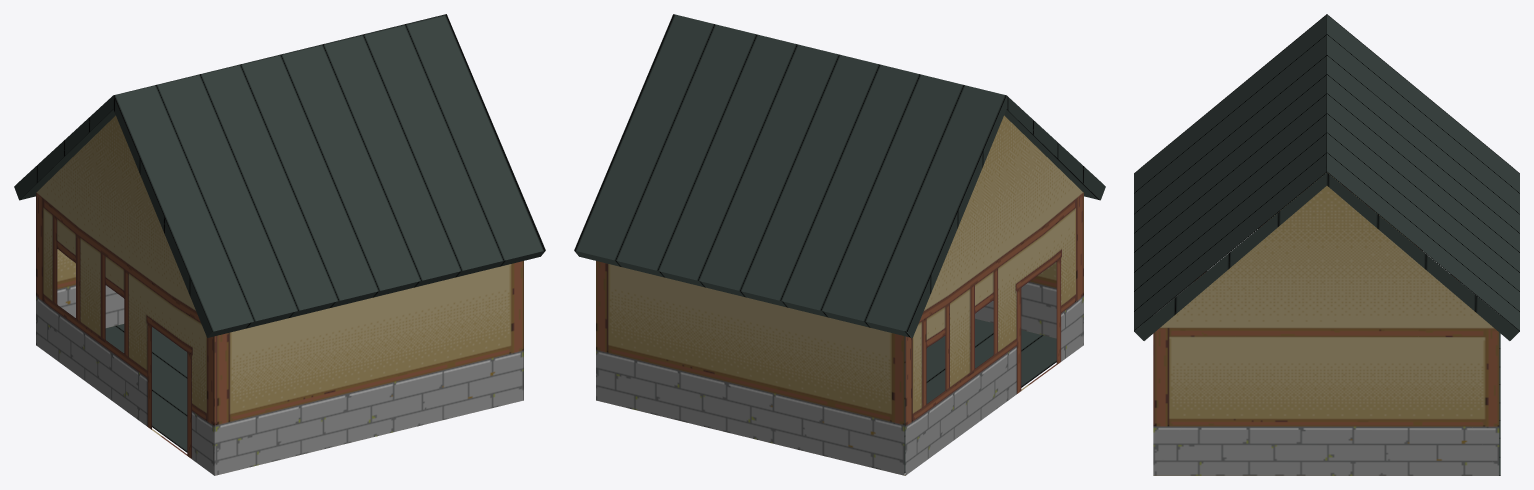
3 renders of one model, left to right at view 1: azimuth 30°, elevation 25°; view 2: azimuth 150°, elevation 25°; view 3: azimuth 270°, elevation 25°, orthographic. The views are drawn at different scales.
Visible parts, largest first — view 1: Cube; view 2: Cube; view 3: Cube.
Boxes of the visible parts, x1,y1,x2,y2 form: Cube: [14, 14, 545, 475]; Cube: [574, 14, 1105, 475]; Cube: [1134, 14, 1519, 475].
Bounding box in the file's own units: 433 × 395 × 446.
